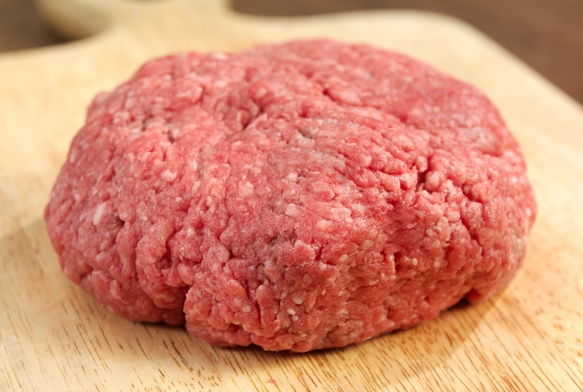ground_beef: (62, 38, 532, 366)
